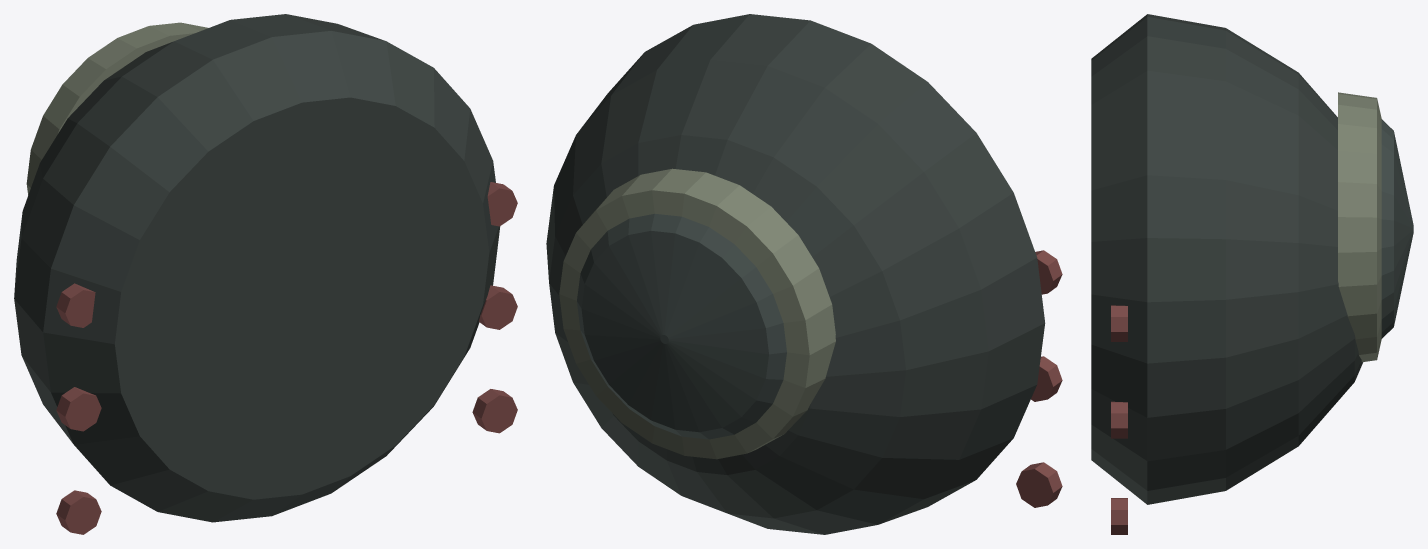
File: centipede_burner_head.obj
3 views of the same model, side by side, from view 1: azimuth 30°, elevation 25°; view 2: azimuth 150°, elevation 25°; view 3: azimuth 270°, elevation 25° (orthographic). The views are drawn at different scales.
Visible parts, largest first — view 1: centipede_burner_head; view 2: centipede_burner_head; view 3: centipede_burner_head.
Part boxes in pixels (left/top/right/bottom): centipede_burner_head: left=14, top=14, right=517, bottom=534; centipede_burner_head: left=546, top=14, right=1062, bottom=534; centipede_burner_head: left=1091, top=14, right=1413, bottom=534.
Size of the model in its own units: 0.88 by 0.88 by 0.575.
